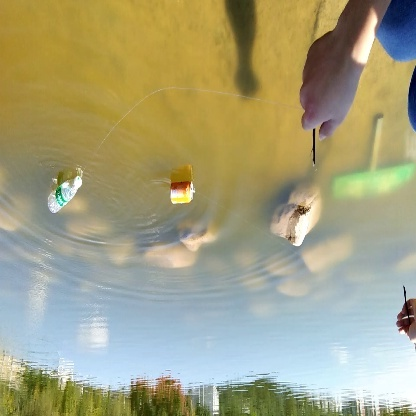bottle: (45, 171, 85, 220), (166, 175, 199, 211)
